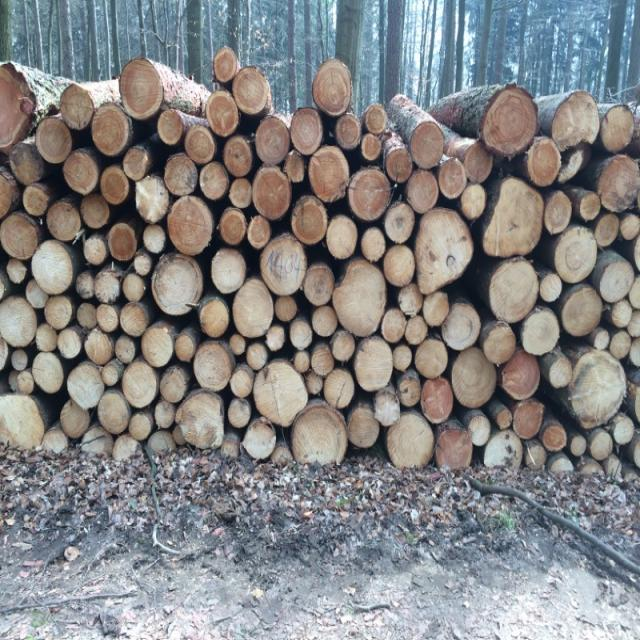wood-log: (413, 210, 473, 294), (482, 177, 542, 257), (568, 352, 626, 430), (333, 260, 388, 339), (253, 358, 309, 425), (481, 91, 536, 156), (290, 403, 343, 466), (490, 260, 541, 322), (150, 254, 201, 315), (449, 348, 496, 409), (0, 68, 34, 150), (178, 392, 225, 451), (119, 57, 165, 117), (552, 93, 602, 148), (165, 196, 212, 254), (262, 236, 306, 296), (386, 414, 433, 470), (0, 395, 46, 451), (232, 280, 274, 338), (348, 169, 393, 223), (555, 227, 598, 283), (33, 242, 76, 296), (599, 155, 640, 211), (309, 148, 350, 203), (314, 60, 354, 116), (253, 168, 294, 221), (355, 336, 394, 391), (561, 286, 603, 336), (503, 349, 542, 402), (193, 341, 234, 391), (92, 103, 130, 154), (292, 195, 330, 245), (0, 297, 36, 348), (442, 303, 481, 350), (232, 69, 270, 117), (520, 308, 558, 356), (67, 362, 105, 409), (34, 117, 72, 164), (121, 361, 158, 409), (135, 176, 171, 224), (526, 137, 562, 185), (2, 215, 39, 261), (255, 118, 292, 164), (210, 249, 247, 295), (422, 376, 456, 424), (601, 106, 635, 154), (63, 152, 100, 196), (409, 123, 446, 167), (434, 424, 470, 469), (9, 143, 46, 186), (96, 391, 131, 436), (60, 84, 94, 130), (598, 262, 634, 304), (406, 171, 441, 214), (206, 92, 238, 139), (142, 324, 176, 368), (164, 154, 198, 198), (292, 109, 325, 154), (46, 200, 82, 241), (344, 406, 379, 448), (485, 432, 523, 470), (482, 325, 518, 365), (30, 352, 65, 392), (382, 244, 416, 285), (328, 217, 360, 260), (414, 339, 448, 378), (324, 368, 356, 409), (303, 264, 334, 306), (243, 420, 276, 459), (183, 126, 216, 165), (199, 297, 230, 338), (514, 399, 545, 438), (465, 142, 495, 182), (224, 135, 253, 176), (59, 401, 90, 439), (545, 192, 573, 234), (439, 159, 468, 199), (200, 162, 229, 201), (160, 366, 190, 403), (102, 165, 130, 204), (82, 193, 111, 230), (110, 224, 138, 262), (460, 181, 488, 219), (44, 295, 74, 330), (85, 330, 114, 366), (158, 110, 186, 146), (423, 293, 451, 329), (375, 387, 401, 425), (120, 304, 149, 338), (95, 268, 122, 304), (380, 308, 407, 343), (548, 355, 575, 390), (220, 211, 246, 247), (124, 148, 151, 182), (310, 306, 338, 338), (84, 233, 110, 266), (24, 183, 50, 216), (594, 214, 619, 248), (336, 116, 361, 150), (247, 217, 272, 250), (230, 366, 255, 398), (363, 230, 388, 262), (468, 413, 492, 446), (400, 283, 424, 316), (332, 331, 356, 363), (0, 171, 16, 218), (129, 411, 154, 441), (400, 375, 422, 409), (58, 329, 82, 360), (611, 331, 635, 362), (543, 424, 568, 453), (142, 225, 167, 254), (34, 322, 58, 352), (290, 320, 314, 350), (24, 278, 48, 308), (612, 414, 636, 444), (540, 273, 564, 303), (230, 178, 254, 208), (590, 430, 613, 461), (407, 315, 430, 346), (122, 274, 147, 302), (228, 399, 252, 428), (612, 298, 634, 329), (246, 341, 269, 370), (579, 192, 602, 221), (96, 303, 119, 332), (392, 341, 412, 372), (276, 295, 298, 323), (156, 400, 176, 430), (526, 444, 547, 472), (175, 333, 195, 362), (74, 270, 94, 299), (266, 325, 287, 352), (362, 134, 381, 162), (5, 260, 27, 284), (115, 338, 136, 363), (621, 212, 640, 238), (133, 253, 153, 277), (230, 334, 248, 357), (292, 350, 310, 373), (592, 328, 610, 350), (11, 347, 28, 369), (570, 436, 586, 458), (496, 406, 510, 431), (629, 277, 640, 308), (628, 312, 640, 338), (0, 338, 9, 371), (631, 437, 640, 470), (0, 275, 10, 301), (630, 341, 640, 366)
